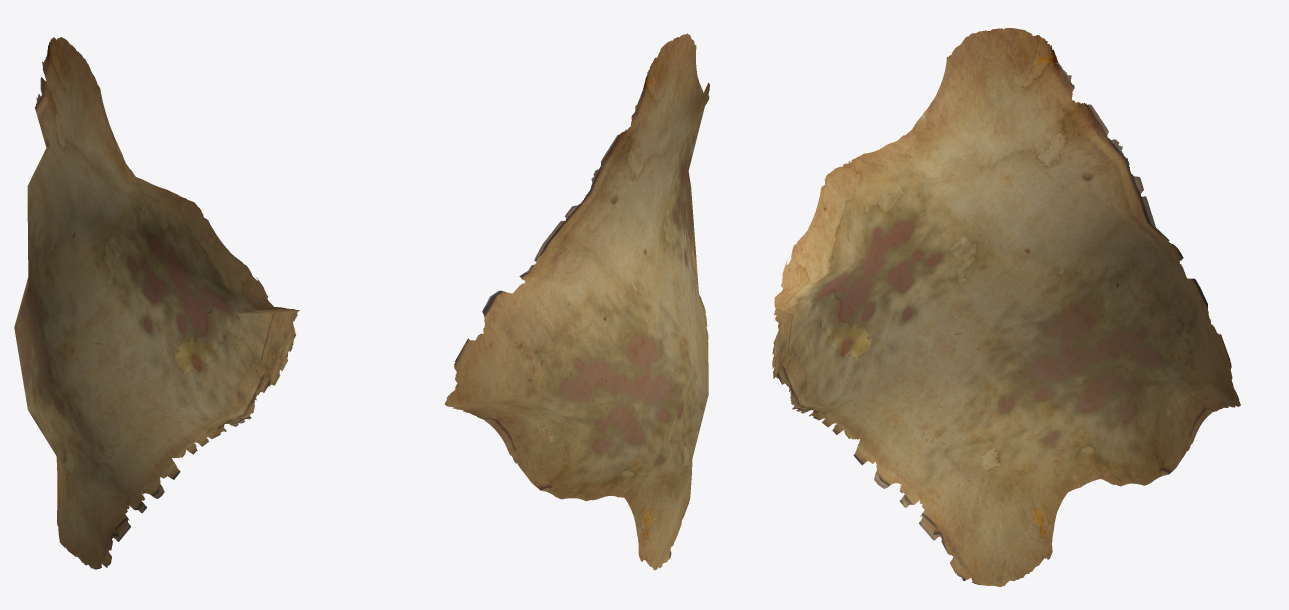
Rendered from tissue2.FBX.
3 views of the same model, side by side, from view 1: azimuth 30°, elevation 25°; view 2: azimuth 150°, elevation 25°; view 3: azimuth 270°, elevation 25° (orthographic). The views are drawn at different scales.
Visible parts, largest first — view 1: tissue2; view 2: tissue2; view 3: tissue2.
Part boxes in pixels (x1=…): tissue2: x1=14, y1=37, x2=299, y2=569; tissue2: x1=444, y1=33, x2=709, y2=570; tissue2: x1=772, y1=28, x2=1240, y2=586.
Size of the model in its own units: 42.99 by 131 by 106.
